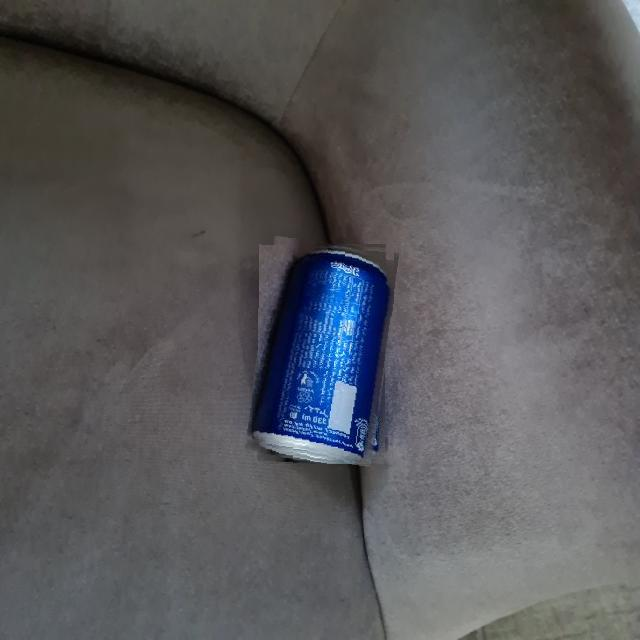recyclable: (252, 240, 394, 464)
